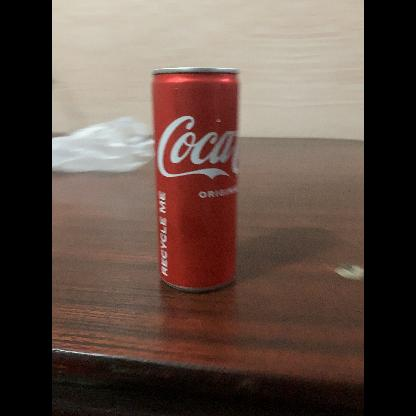Tin_Can: (150, 59, 244, 299)
